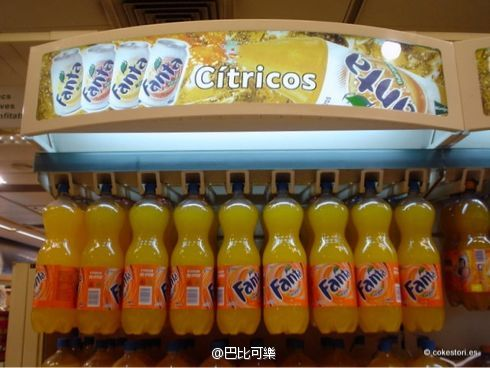fanta: (215, 196, 264, 333), (261, 201, 311, 334), (355, 201, 403, 336), (310, 198, 357, 333), (34, 183, 75, 332), (171, 195, 214, 336), (401, 197, 446, 329), (80, 192, 121, 334), (128, 196, 166, 335)
